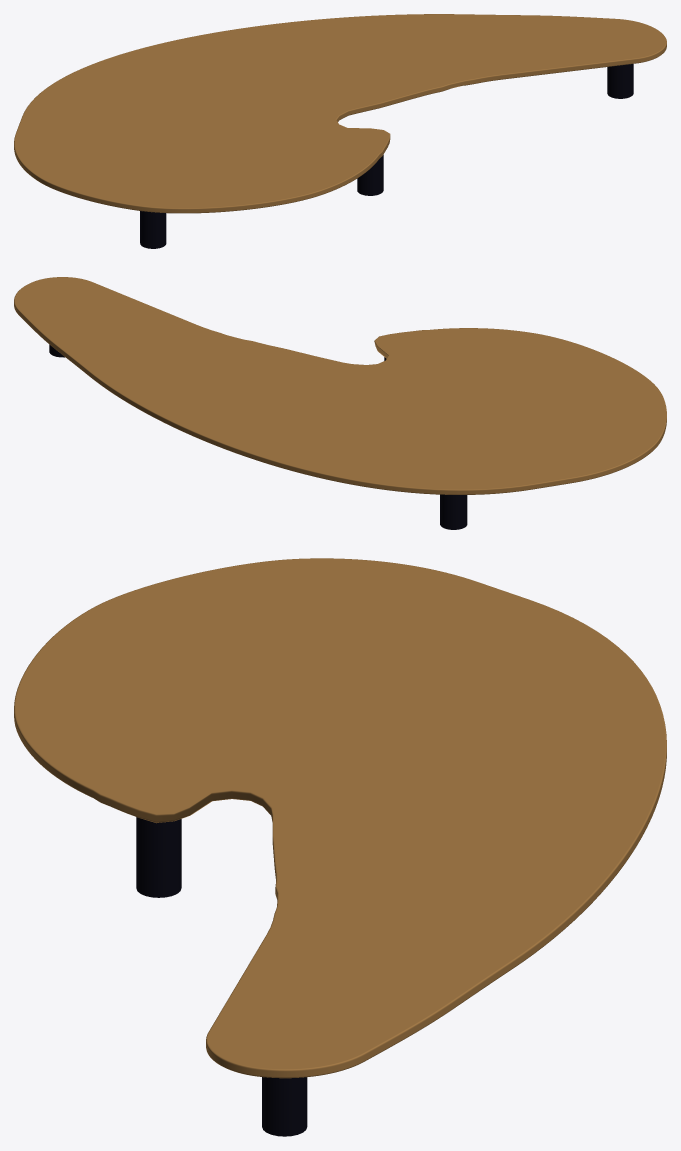
Rendered from mesaRocko.obj.
The picture shows the model from 3 angles, top to bottom: view 1: azimuth 30°, elevation 25°; view 2: azimuth 150°, elevation 25°; view 3: azimuth 270°, elevation 25°; orthographic projection. The views are drawn at different scales.
Parts seen in each view (by area): view 1: Table_135:Table_135_00, pasted__pCylinder1 group, pasted__pCylinder1 group1, pCylinder1; view 2: Table_135:Table_135_00, pasted__pasted__pCylinder1 pasted__group group2; view 3: Table_135:Table_135_00, pCylinder1, pasted__pCylinder1 group1.
Part boxes in pixels (x1,y1,x2,y2): Table_135:Table_135_00: [14, 14, 666, 213]; pasted__pCylinder1 group: [140, 211, 166, 248]; pasted__pCylinder1 group1: [607, 64, 633, 98]; pCylinder1: [357, 155, 383, 195]; Table_135:Table_135_00: [14, 277, 666, 494]; pasted__pasted__pCylinder1 pasted__group group2: [440, 494, 467, 529]; Table_135:Table_135_00: [14, 558, 666, 1078]; pCylinder1: [136, 817, 181, 897]; pasted__pCylinder1 group1: [262, 1077, 307, 1136].
Bounding box in the file's own units: 5 × 0.4093 × 2.69.
Materials: 2 (2 with a texture image).
